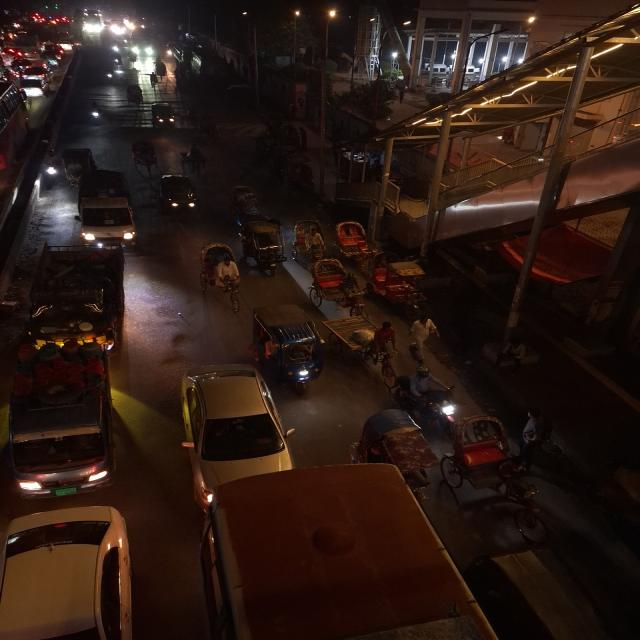bus: (195, 463, 489, 640), (0, 79, 29, 192)
car: (0, 502, 141, 640), (176, 362, 293, 506), (18, 63, 54, 95)
cng: (157, 171, 200, 221), (150, 102, 181, 132)
motorcycle: (397, 366, 462, 426), (41, 146, 62, 186), (86, 100, 104, 126)
pickup_van: (4, 340, 122, 500), (15, 244, 133, 365), (75, 166, 136, 250)
rickshaw: (448, 411, 548, 522), (249, 303, 326, 393), (353, 407, 436, 483), (326, 307, 399, 373), (367, 250, 432, 311), (196, 240, 244, 314), (307, 256, 365, 316), (240, 214, 287, 278), (333, 219, 380, 262), (292, 218, 325, 262), (228, 184, 263, 218), (128, 138, 160, 172), (179, 143, 209, 175), (124, 82, 145, 109), (151, 59, 169, 83), (148, 70, 161, 88)
